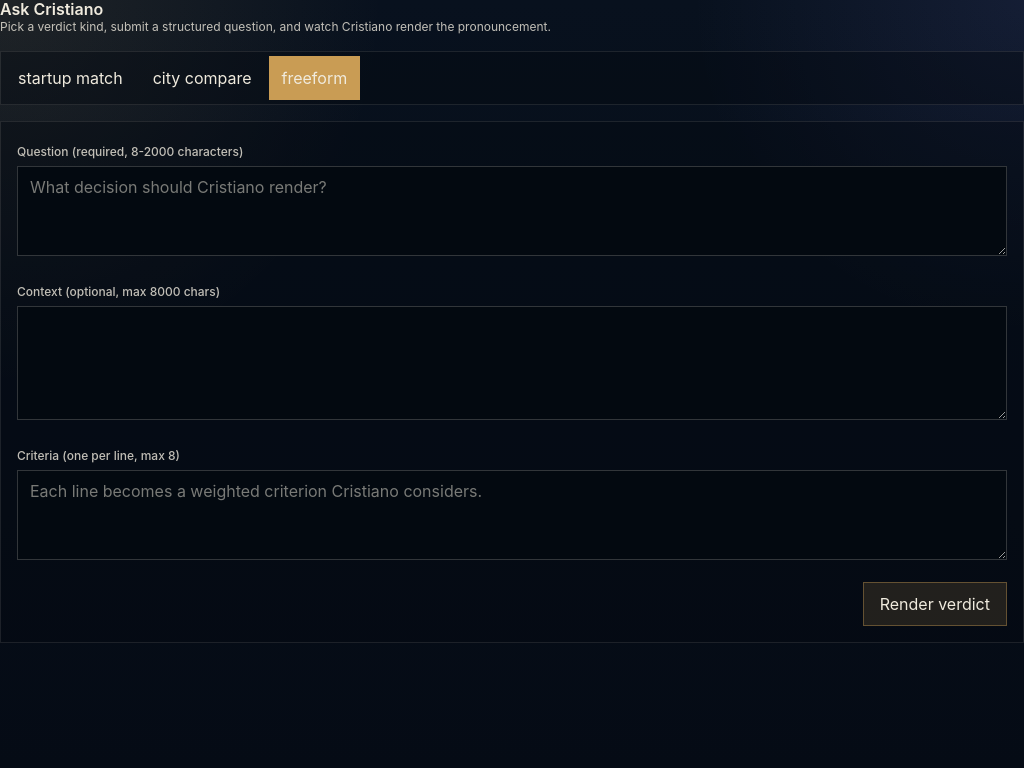
Test case: AskCristiano — submit + render flow › surfaces 'already existed' messaging on idempotent re-submit
Type "Should we hire a CTO this quarter?" into the text box with test id "ask-cristiano-question". click: {"x": 512, "y": 211}
box: x1=17 y1=166 x2=1007 y2=256
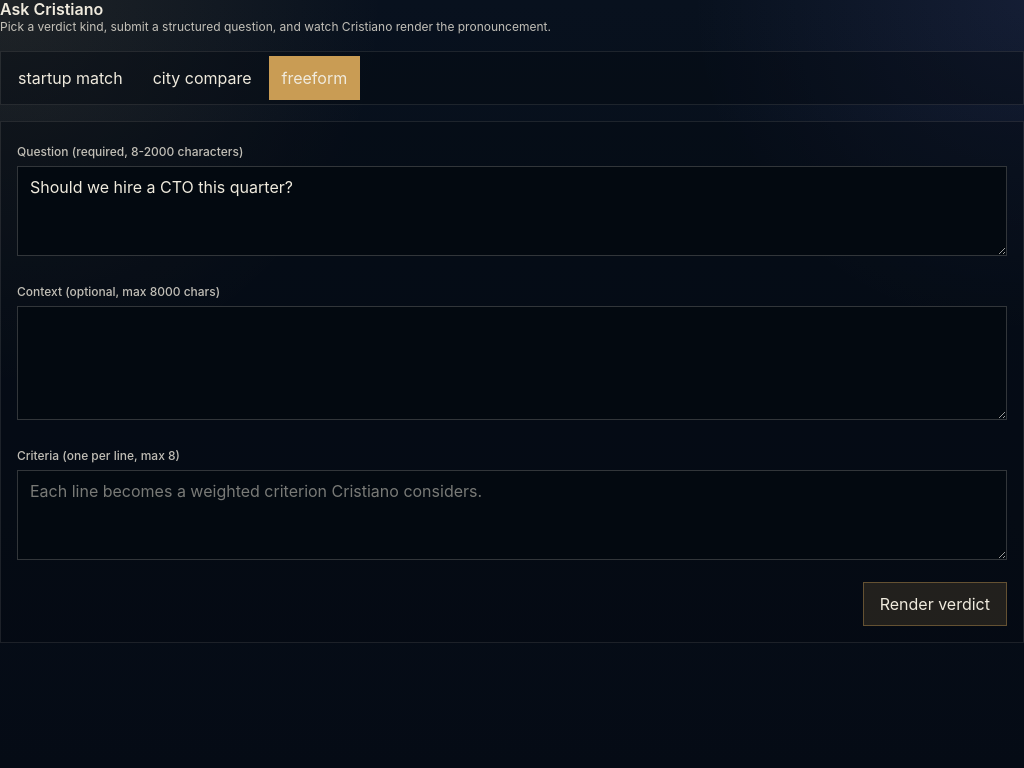
Click the button with test id "ask-cristiano-submit". click: {"x": 935, "y": 604}
box: x1=863 y1=582 x2=1007 y2=626
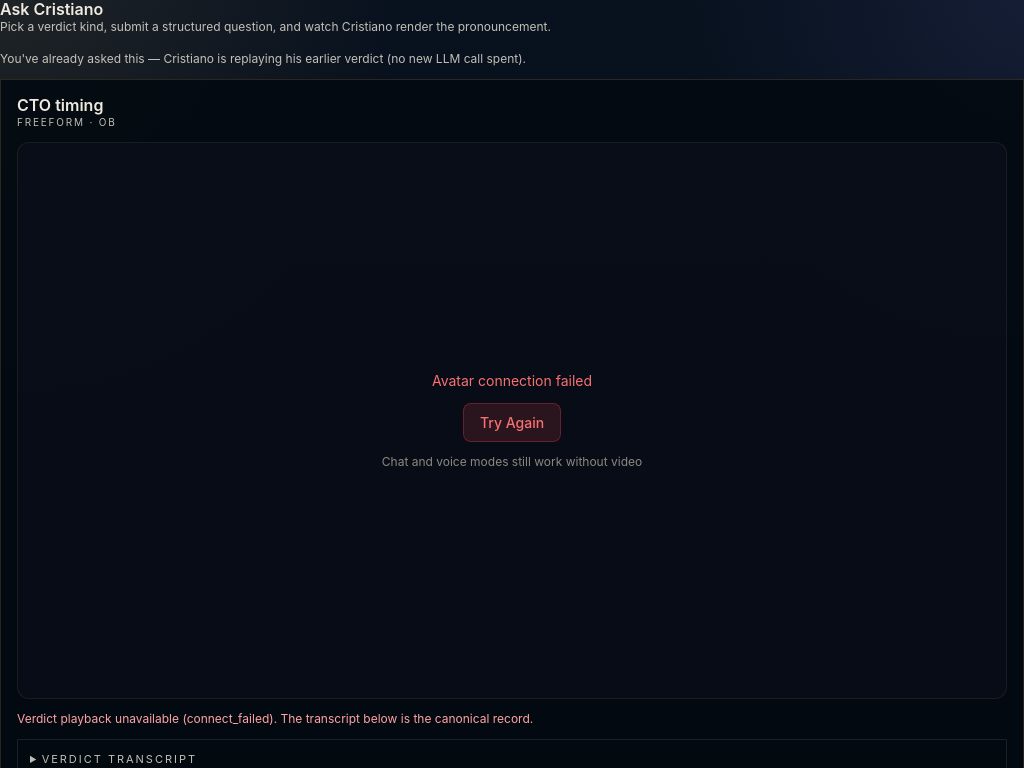
Result: the text with test id "ask-cristiano-already-existed" is shown at x1=0 y1=51 x2=526 y2=66
